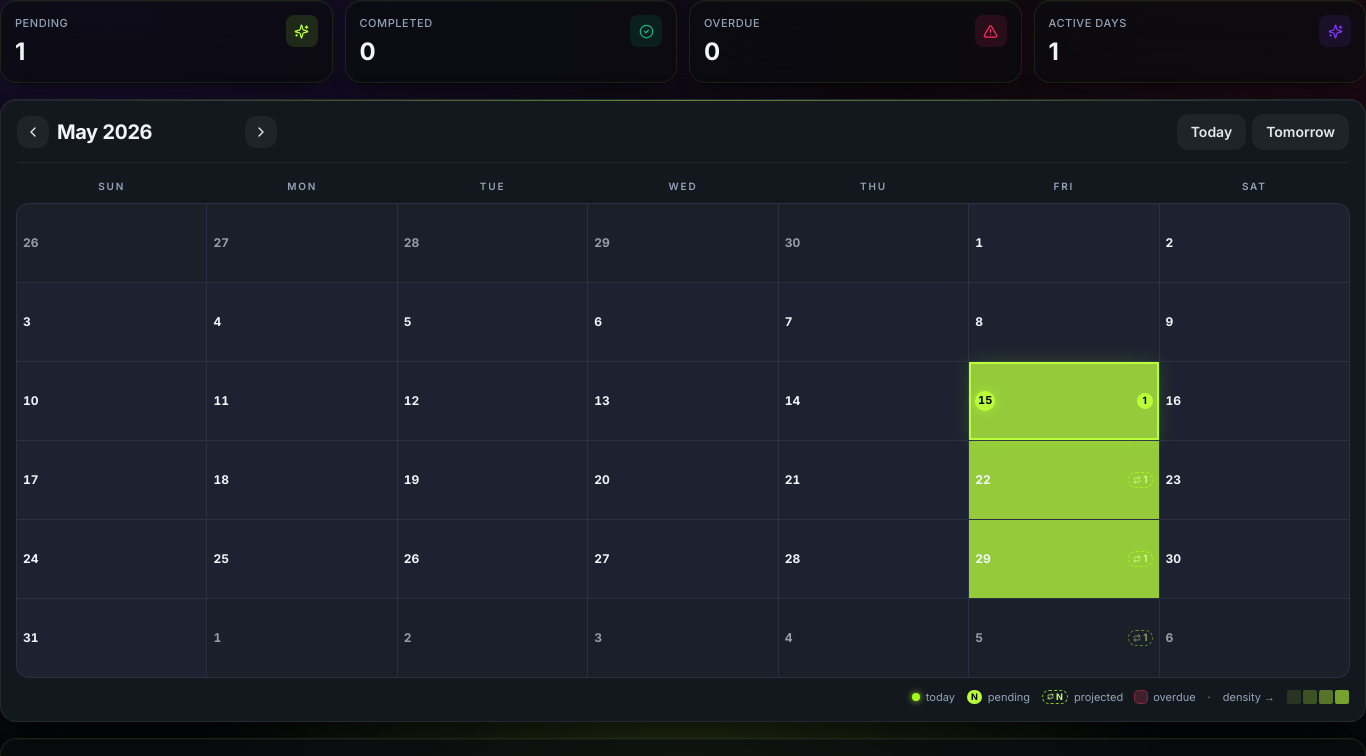
Test: Calendar · projections (recurring) › shows projection in day detail when clicking a future projected day
This screenshot has width=1366, height=756.
Click the text "22" at (983, 480), box [975,472,991,488]
(page scrolled)
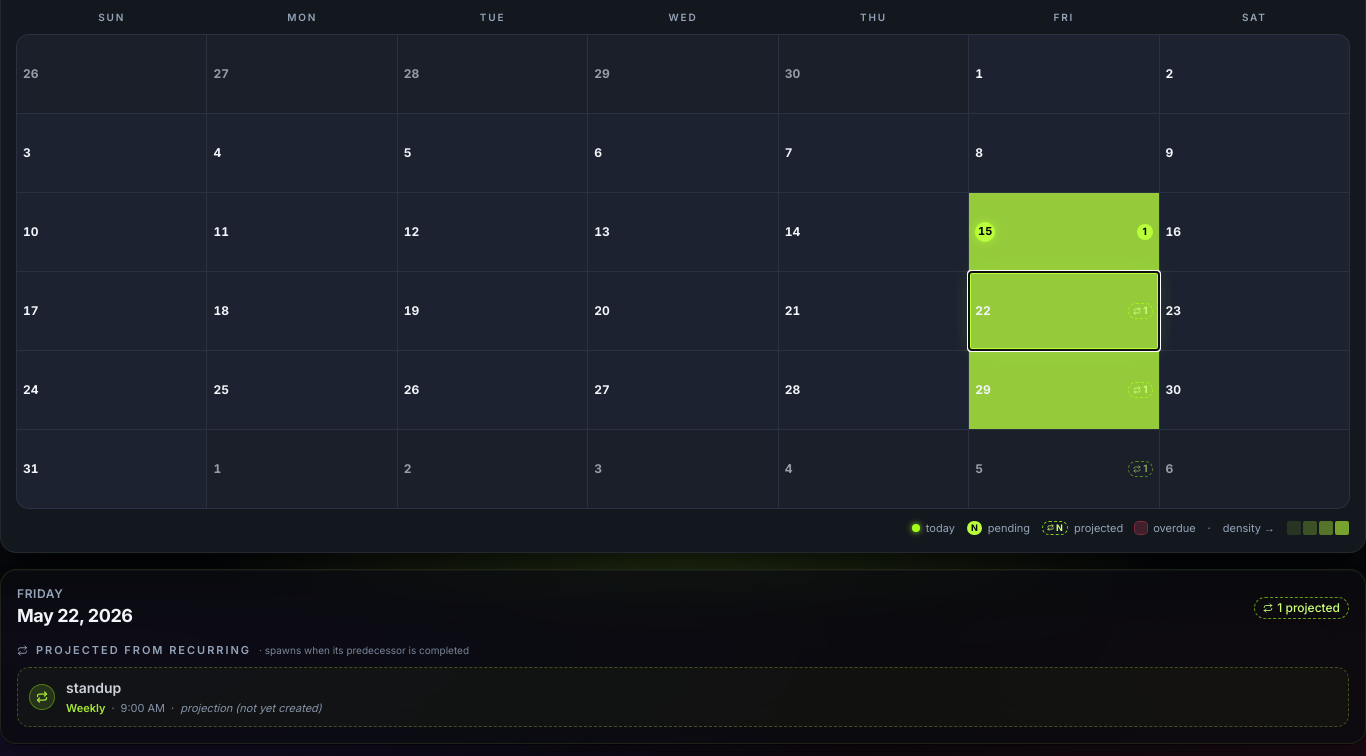
expect the heading "May 22, 2026" is shown: met, box [17,602,132,630]
expect the text "Projected from recurring" is shown: met, box [36,643,251,657]
expect the text "projection (not yet created)" is shown: met, box [180,700,322,716]
